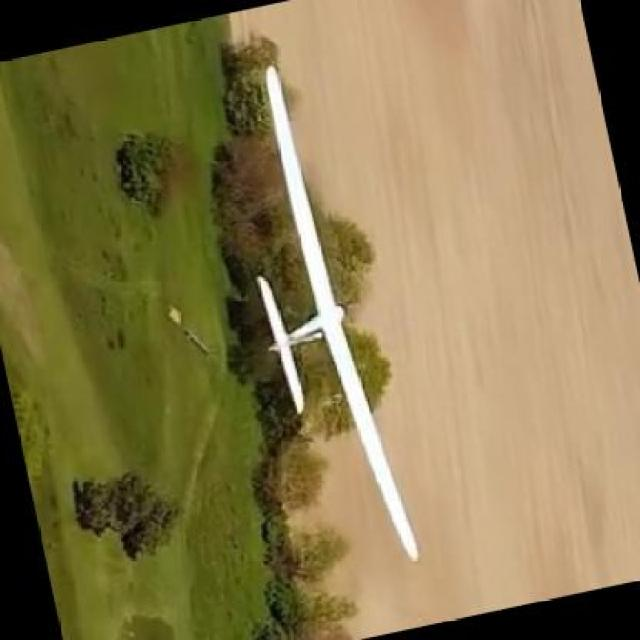iha: (228, 60, 419, 567)
